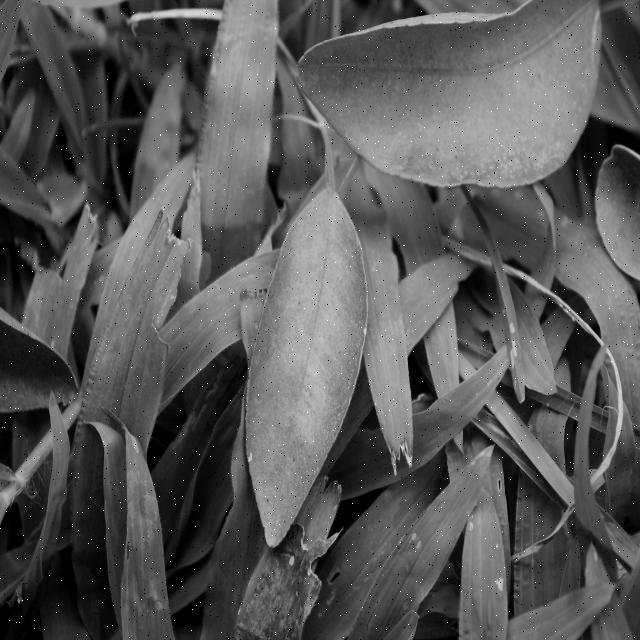blackspot: (248, 217, 362, 535)
